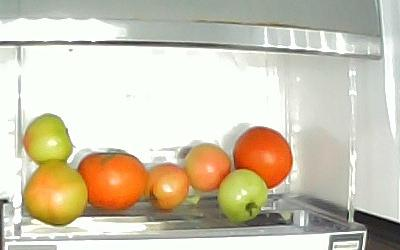tomato: (22, 158, 88, 227), (76, 152, 145, 210), (232, 125, 292, 189), (217, 169, 268, 222), (23, 113, 72, 165), (182, 143, 231, 191), (144, 162, 189, 210)
